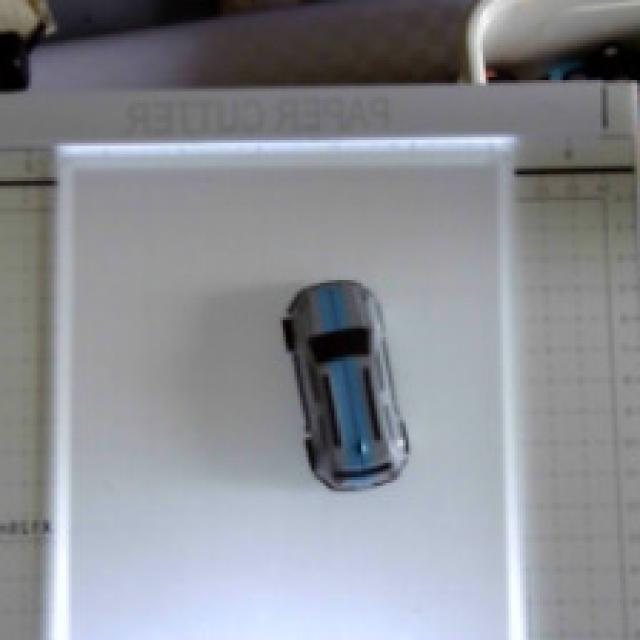Grey Car: (263, 275, 441, 526)
